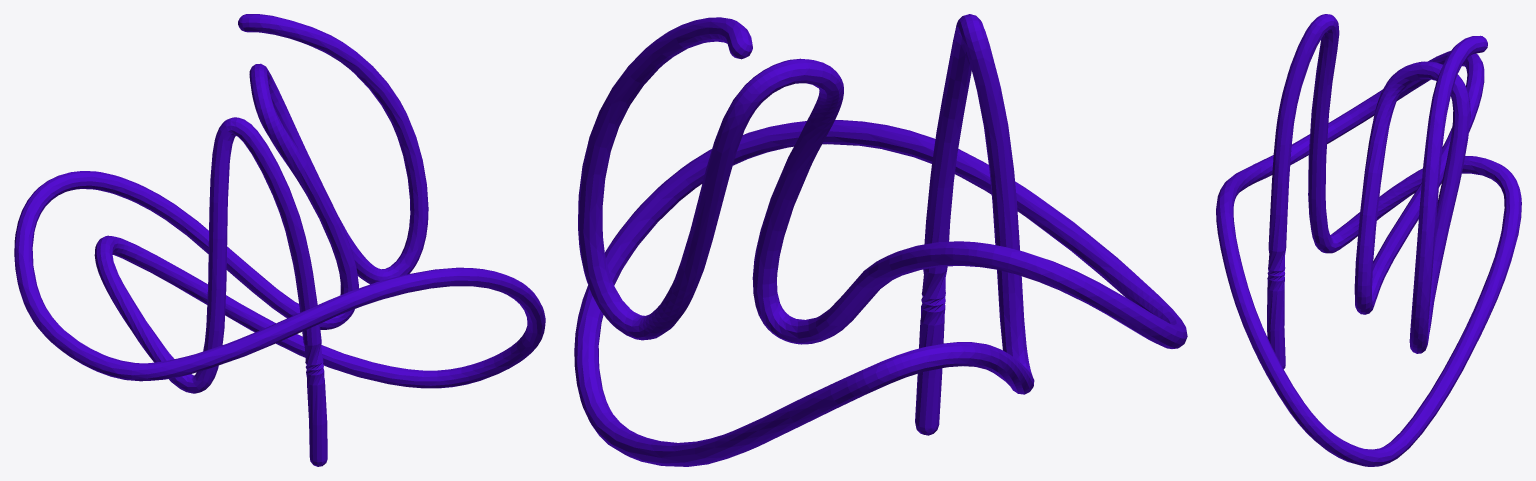
File: Brush_txt.obj
The picture shows the model from 3 angles, left to right: view 1: azimuth 30°, elevation 25°; view 2: azimuth 150°, elevation 25°; view 3: azimuth 270°, elevation 25°; orthographic projection. The views are drawn at different scales.
Parts seen in each view (by area): view 1: s.0010_Mesh; view 2: s.0010_Mesh; view 3: s.0010_Mesh.
Boxes of the visible parts, x1,y1,x2,y2 form: s.0010_Mesh: (14,14,545,466); s.0010_Mesh: (574,14,1187,466); s.0010_Mesh: (1216,14,1521,466).
Bounding box in the file's own units: 1 × 0.7584 × 0.5837.
